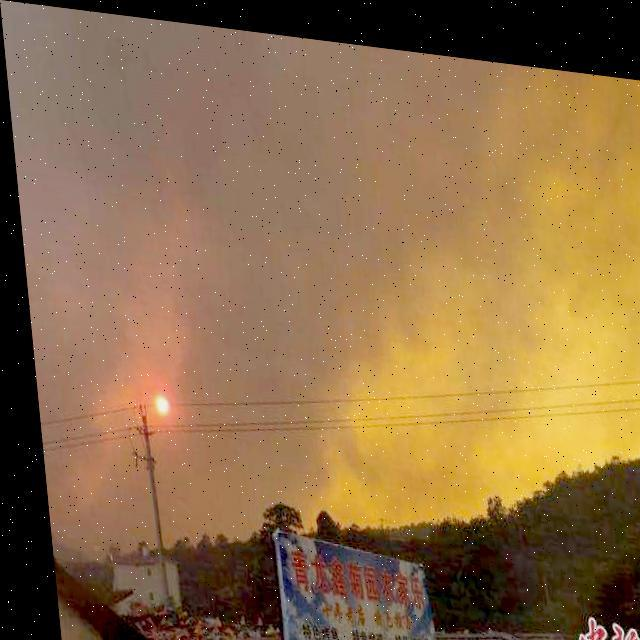Fire: (283, 300, 639, 557)
